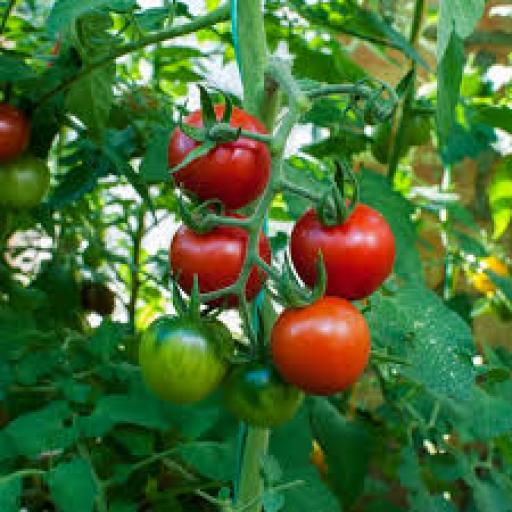tomato: (292, 203, 395, 300), (271, 296, 370, 395), (139, 317, 232, 405), (173, 137, 270, 209), (169, 226, 248, 293), (224, 362, 302, 427), (0, 155, 50, 209), (0, 103, 29, 161), (469, 255, 509, 295), (401, 114, 430, 157), (80, 283, 116, 316), (121, 87, 161, 116), (371, 121, 391, 163), (406, 114, 432, 145), (310, 442, 327, 480), (82, 242, 102, 268)
